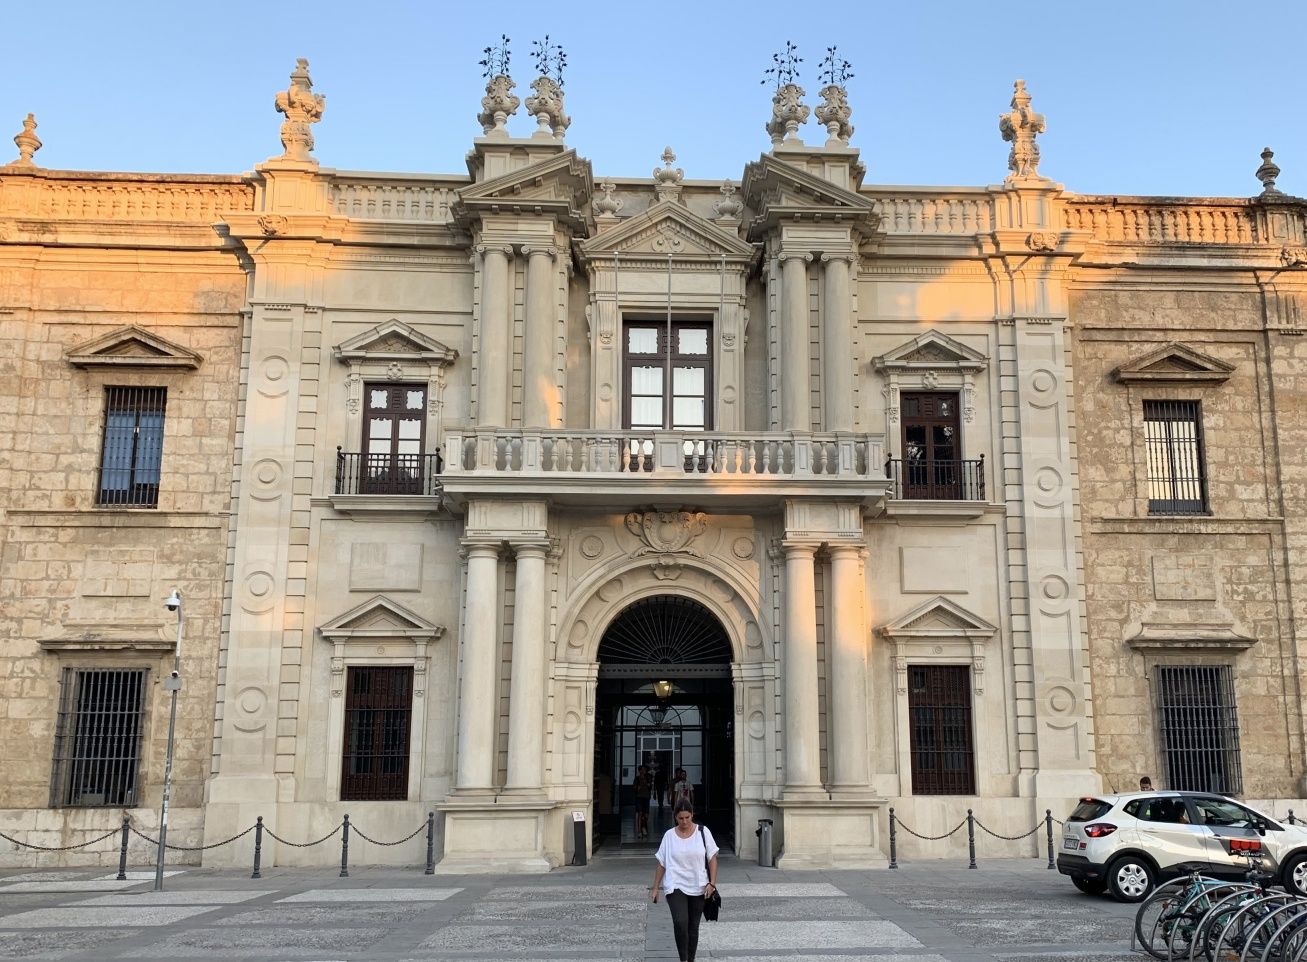arco-medio-punto: (570, 575, 756, 685)
fronton: (578, 197, 753, 262), (55, 322, 201, 374), (315, 593, 444, 641), (1115, 338, 1239, 388), (330, 318, 457, 365), (870, 327, 989, 372), (877, 596, 999, 640)
fronton-partido: (452, 140, 881, 228)
vano-adintelado: (36, 628, 176, 816), (604, 287, 732, 464), (1137, 639, 1256, 792), (320, 645, 433, 802), (885, 647, 995, 801), (334, 368, 442, 493), (877, 376, 980, 503), (81, 374, 180, 506)
